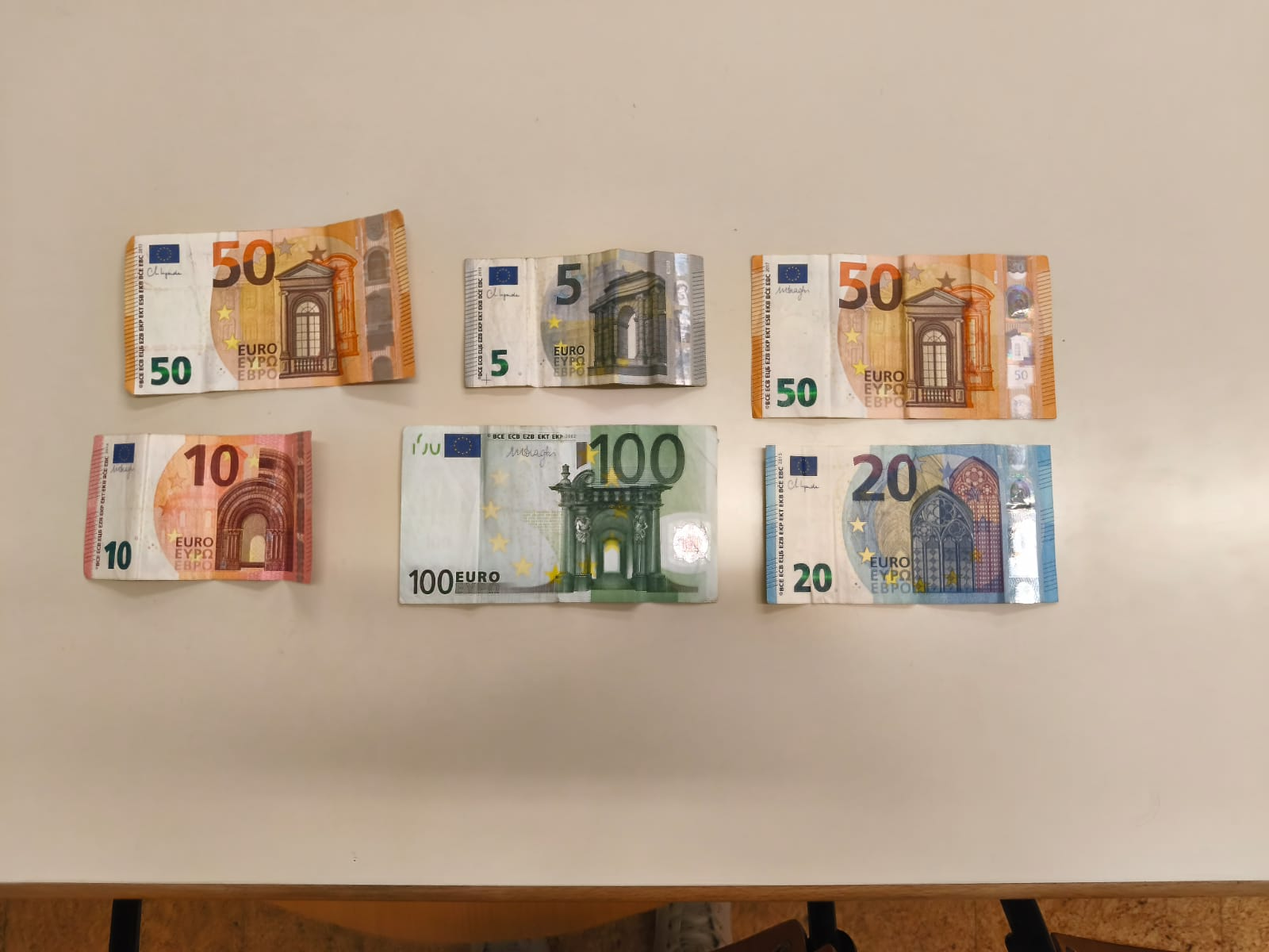Nota de 100€: (393, 421, 724, 609)
Nota de 10€: (81, 427, 316, 588)
Nota de 20€: (762, 440, 1062, 609)
Nota de 50€: (746, 249, 1060, 425), (115, 224, 416, 403)
Nota de 5€: (460, 245, 710, 390)
